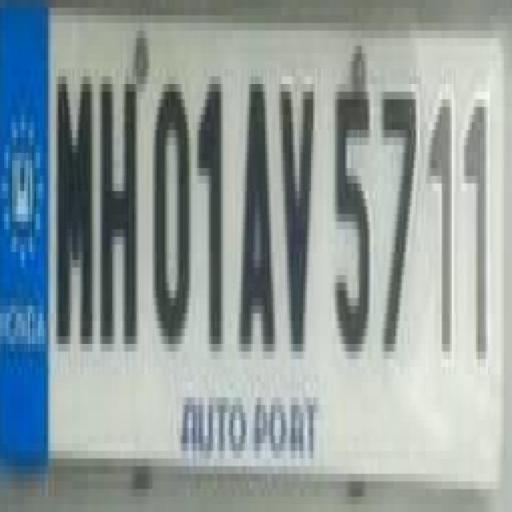number plate: (20, 0, 512, 466)
